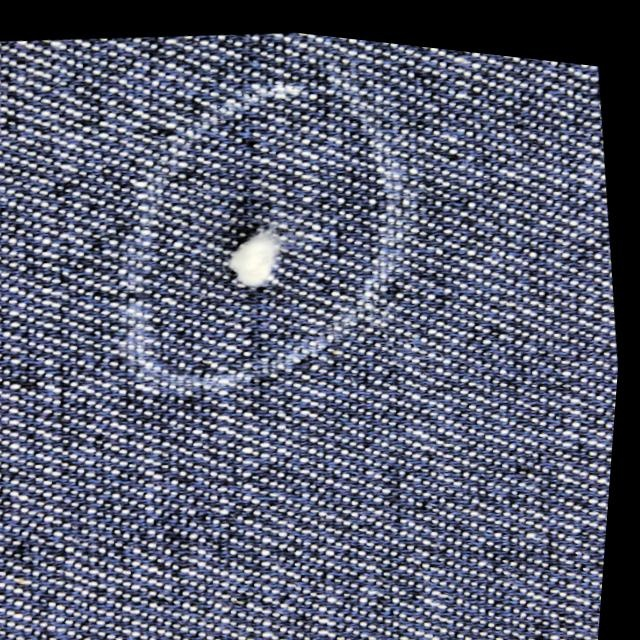Hole: (191, 205, 322, 318)
